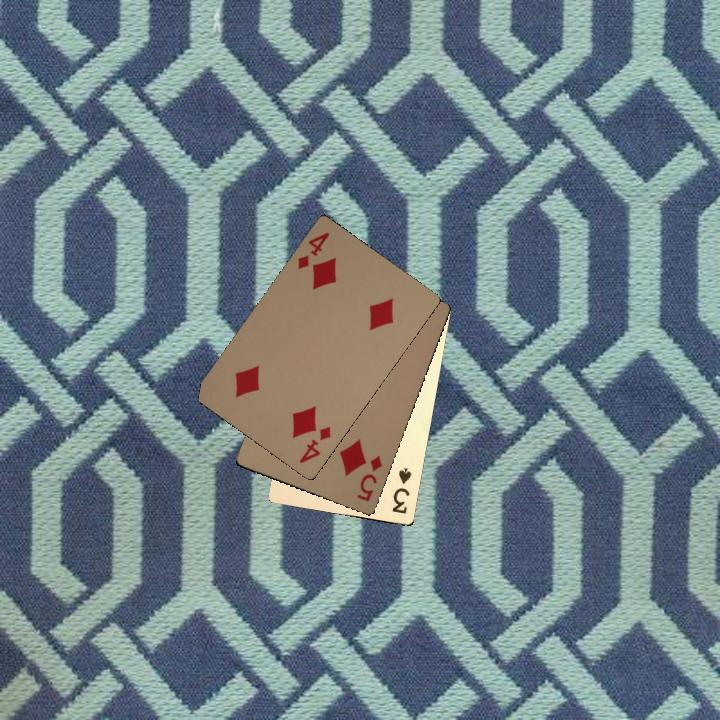3s: (388, 464, 414, 516)
4d: (293, 228, 332, 272), (295, 422, 333, 466)
5d: (353, 451, 385, 504)
